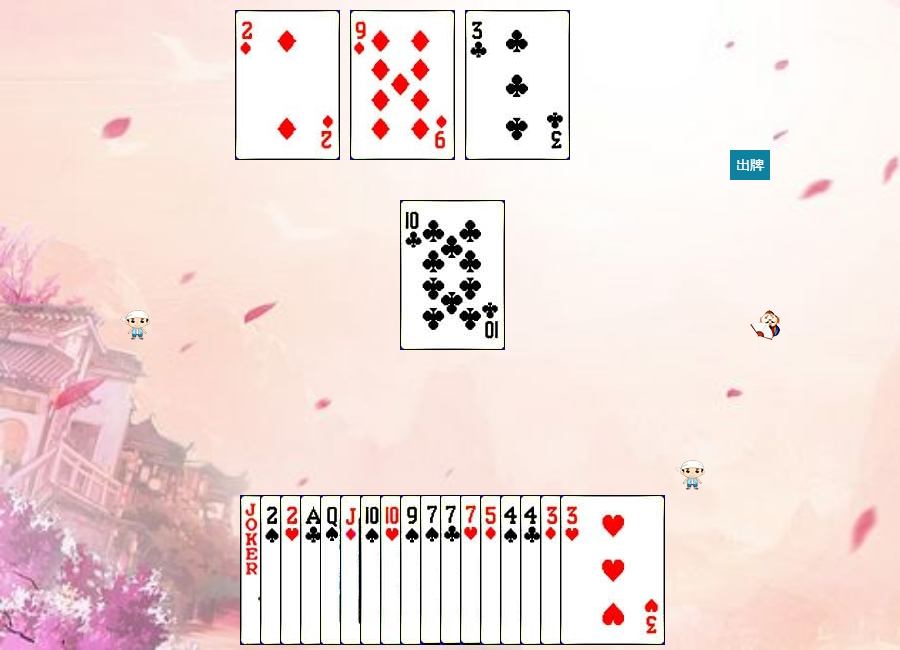10~2: (400, 200, 505, 350)
10~3: (380, 495, 485, 645)
10~4: (360, 495, 465, 645)
11~1: (340, 495, 445, 645)
12~4: (320, 495, 425, 645)
14~2: (300, 495, 405, 645)
15~1: (235, 10, 340, 160)
15~3: (280, 495, 385, 645)
15~4: (260, 495, 365, 645)
18~4: (240, 495, 345, 645)
3~1: (540, 495, 645, 645)
3~2: (465, 10, 570, 160)
3~3: (560, 495, 665, 645)
4~2: (520, 495, 625, 645)
4~4: (500, 495, 605, 645)
5~1: (480, 495, 585, 645)
7~2: (440, 495, 545, 645)
7~3: (460, 495, 565, 645)
7~4: (420, 495, 525, 645)
9~1: (350, 10, 455, 160)
9~4: (400, 495, 505, 645)
